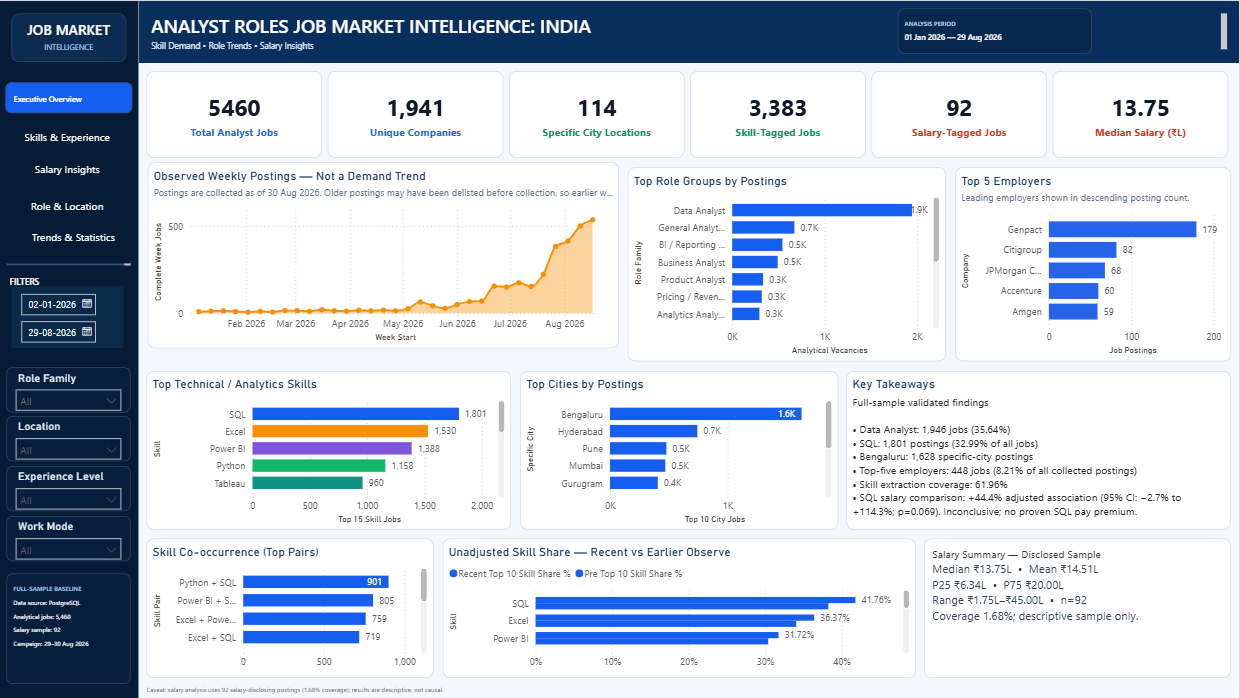

The page's visual inventory and layout, read from the dashboard file:
{"tool":"powerbi","page":{"name":"Executive Overview","canvas":[1600,900],"ordinal":0},"visuals":[{"type":"textbox","box":[0,0,180,900],"z":0},{"type":"textbox","box":[16,16,148,62],"z":1000},{"type":"textbox","box":[8,105,164,40],"z":2000},{"type":"textbox","box":[10,338,160,2],"z":3000},{"type":"textbox","box":[10,348,160,28],"z":4000},{"type":"slicer","fields":{"Values":["Jobs.Role Family"]},"box":[10,472,160,58],"z":5000},{"type":"slicer","fields":{"Values":["Jobs.Specific City"]},"box":[10,536,160,58],"z":6000},{"type":"slicer","fields":{"Values":["Jobs.Experience Band"]},"box":[10,600,160,58],"z":7000},{"type":"slicer","fields":{"Values":["Jobs.Work Mode"]},"box":[10,664,160,58],"z":8000},{"type":"textbox","box":[10,738,160,142],"z":9000},{"type":"textbox","box":[180,0,1420,80],"z":10000},{"type":"textbox","box":[1160,10,250,58],"z":11000},{"type":"lineChart","title":"Observed Weekly Postings — Not a Demand Trend","fields":{"Category":["Jobs.Week Start"],"Y":["Jobs.Complete Week Jobs"]},"box":[192,208,608,240],"z":12000},{"type":"barChart","title":"Top Role Groups by Postings","fields":{"Category":["Jobs.Role Family"],"Y":["Jobs.Analytical Vacancies"]},"box":[812,215,410,250],"z":13000},{"type":"barChart","title":"Top Technical / Analytics Skills","fields":{"Category":["Skills.Skill"],"Y":["Skills.Top 15 Skill Jobs"]},"box":[190,477,470,205],"z":14000},{"type":"barChart","title":"Top Cities by Postings","fields":{"Category":["Jobs.Specific City"],"Y":["Jobs.Top 10 City Jobs"]},"box":[672,477,410,205],"z":15000},{"type":"textbox","title":"Key Takeaways","box":[1094,477,496,205],"z":16000},{"type":"barChart","title":"Top 5 Employers","fields":{"Category":["Jobs.Company"],"Y":["Jobs.Top 15 Company Jobs"]},"box":[1234,215,356,250],"z":17000},{"type":"barChart","title":"Skill Co-occurrence (Top Pairs)","fields":{"Category":["SkillPairs.Skill Pair"],"Y":["SkillPairs.Top 10 Pair Jobs"]},"box":[190,694,370,180],"z":18000},{"type":"clusteredBarChart","title":"Unadjusted Skill Share — Recent vs Earlier Observe","fields":{"Category":["Skills.Skill"],"Y":["Skills.Recent Top 10 Skill Share %","Skills.Pre Top 10 Skill Share %"]},"box":[572,694,610,180],"z":19000},{"type":"textbox","box":[1194,694,396,180],"z":20000},{"type":"textbox","box":[190,878,1400,18],"z":21000},{"type":"actionButton","box":[16,160,144,32],"z":22000},{"type":"actionButton","box":[16,192,144,48],"z":23000},{"type":"actionButton","box":[0,240,176,48],"z":24000},{"type":"actionButton","box":[16,288,160,32],"z":25000},{"type":"slicer","fields":{"Values":["Jobs.Posted Date"]},"box":[16,368,144,80],"z":26000},{"type":"card","fields":{"Values":["Jobs.Total Analyst Jobs"]},"box":[190,90,226,112],"z":27000},{"type":"card","fields":{"Values":["Jobs.Unique Companies"]},"box":[424,90,226,112],"z":28000},{"type":"card","fields":{"Values":["Jobs.Specific City Locations"]},"box":[658,90,226,112],"z":29000},{"type":"card","fields":{"Values":["Jobs.Skill-Tagged Jobs"]},"box":[892,90,226,112],"z":30000},{"type":"card","fields":{"Values":["Jobs.Salary-Tagged Jobs"]},"box":[1126,90,226,112],"z":31000},{"type":"card","fields":{"Values":["Jobs.Median Salary (₹L)"]},"box":[1360,90,226,112],"z":32000}]}

Visuals, with their boxes on the page's 1600x900 design canvas (x1, y1, x2, y2). These are canvas units, not pixel positions in the 1240x698 screenshot, which may show the page scaled, cropped or inside an application window:
textbox: locate(0, 0, 180, 900)
textbox: locate(16, 16, 164, 78)
textbox: locate(8, 105, 172, 145)
textbox: locate(10, 338, 170, 340)
textbox: locate(10, 348, 170, 376)
slicer - Jobs.Role Family: locate(10, 472, 170, 530)
slicer - Jobs.Specific City: locate(10, 536, 170, 594)
slicer - Jobs.Experience Band: locate(10, 600, 170, 658)
slicer - Jobs.Work Mode: locate(10, 664, 170, 722)
textbox: locate(10, 738, 170, 880)
textbox: locate(180, 0, 1600, 80)
textbox: locate(1160, 10, 1410, 68)
"Observed Weekly Postings — Not a Demand Trend" lineChart: locate(192, 208, 800, 448)
"Top Role Groups by Postings" barChart: locate(812, 215, 1222, 465)
"Top Technical / Analytics Skills" barChart: locate(190, 477, 660, 682)
"Top Cities by Postings" barChart: locate(672, 477, 1082, 682)
"Key Takeaways" textbox: locate(1094, 477, 1590, 682)
"Top 5 Employers" barChart: locate(1234, 215, 1590, 465)
"Skill Co-occurrence (Top Pairs)" barChart: locate(190, 694, 560, 874)
"Unadjusted Skill Share — Recent vs Earlier Observe" clusteredBarChart: locate(572, 694, 1182, 874)
textbox: locate(1194, 694, 1590, 874)
textbox: locate(190, 878, 1590, 896)
actionButton: locate(16, 160, 160, 192)
actionButton: locate(16, 192, 160, 240)
actionButton: locate(0, 240, 176, 288)
actionButton: locate(16, 288, 176, 320)
slicer - Jobs.Posted Date: locate(16, 368, 160, 448)
card - Jobs.Total Analyst Jobs: locate(190, 90, 416, 202)
card - Jobs.Unique Companies: locate(424, 90, 650, 202)
card - Jobs.Specific City Locations: locate(658, 90, 884, 202)
card - Jobs.Skill-Tagged Jobs: locate(892, 90, 1118, 202)
card - Jobs.Salary-Tagged Jobs: locate(1126, 90, 1352, 202)
card - Jobs.Median Salary (₹L): locate(1360, 90, 1586, 202)
